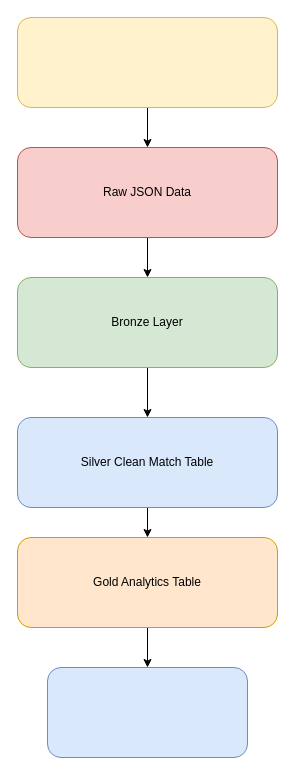
This 295x775 diagram has some shape labels left out. Here are the shapes that lost their labels. From the top down, the centre of each, then its label:
point 147,62: Cricket API
point 147,712: final Insights
